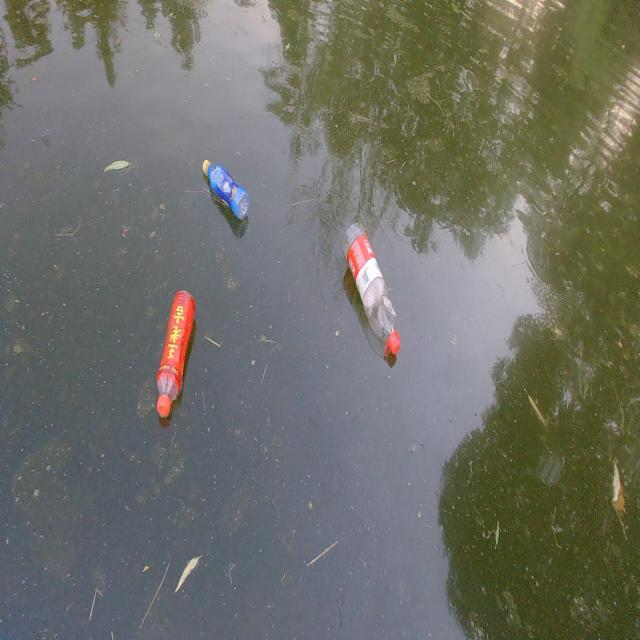bottle: (332, 192, 423, 369), (148, 268, 218, 427), (190, 146, 261, 234)
